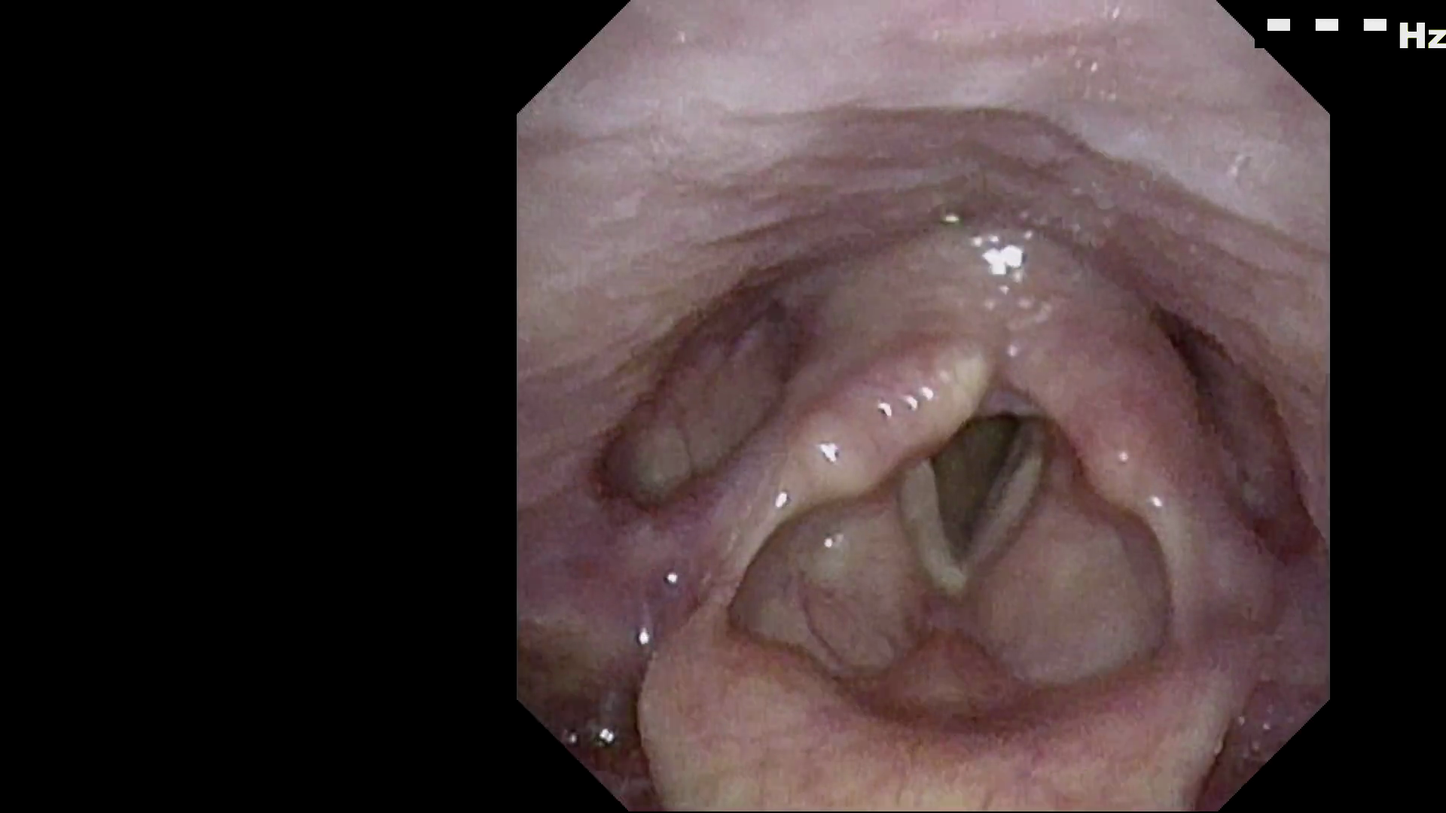epiglottis: (601, 524, 1241, 767)
trachea: (878, 381, 1057, 606)
